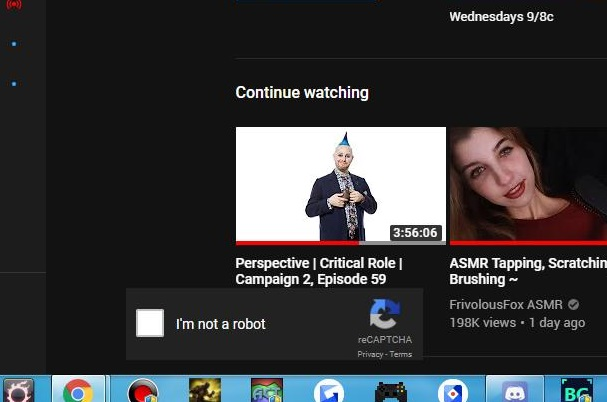captcha: (135, 308, 268, 338)
